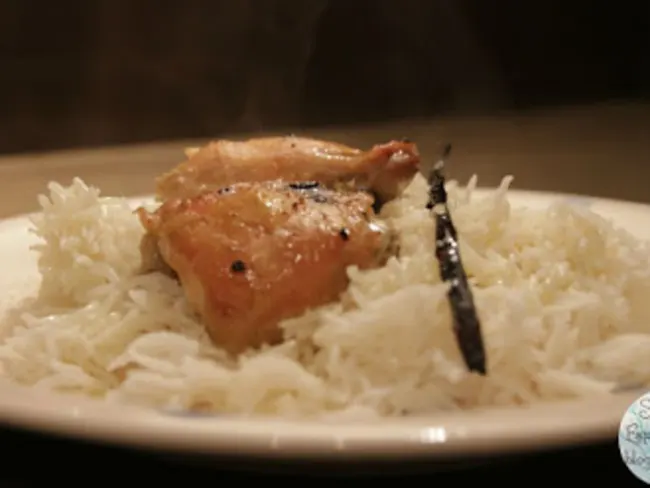Epices: (423, 137, 503, 382)
Poulet à la Vanille: (113, 125, 444, 348)
Riz Coco: (1, 180, 650, 411)
